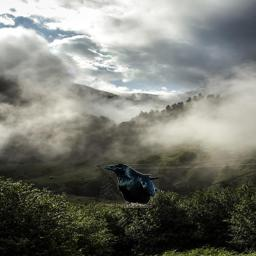Crow: (104, 164, 159, 208)
